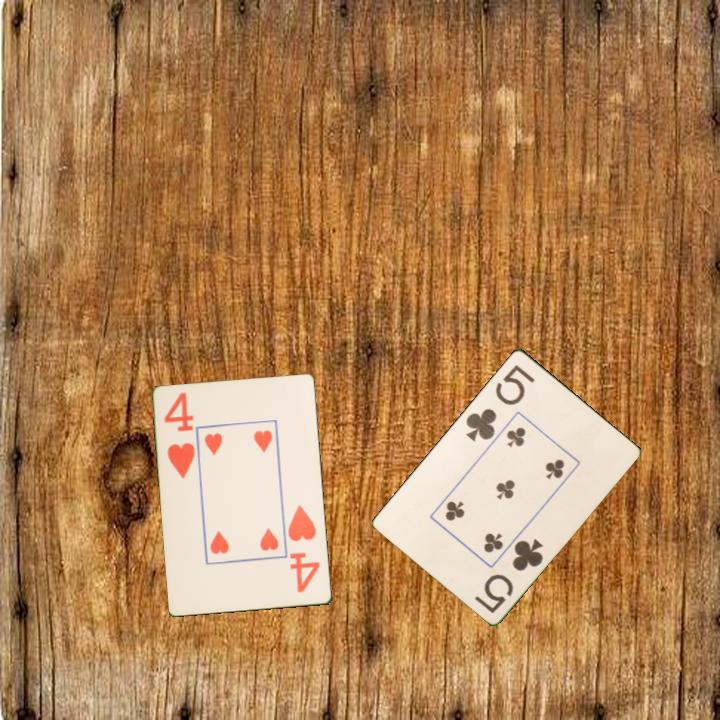4h: (285, 502, 323, 596), (161, 389, 198, 482)
5c: (462, 361, 538, 445), (471, 534, 546, 616)
